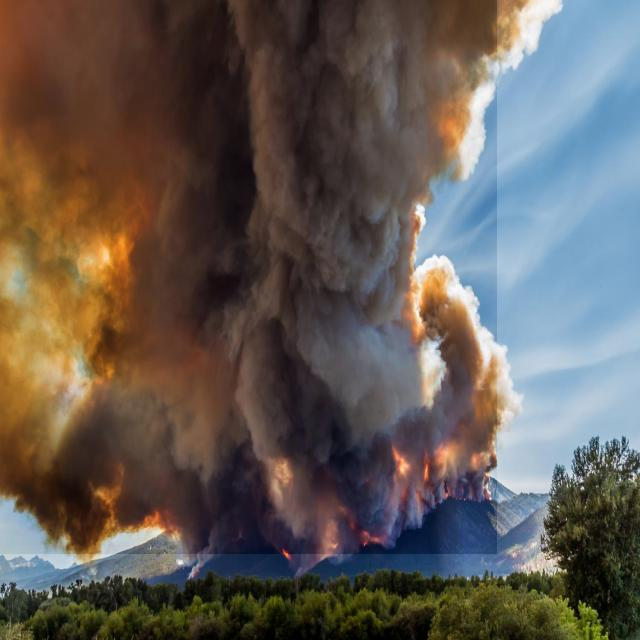Smoke: (0, 0, 497, 554)
